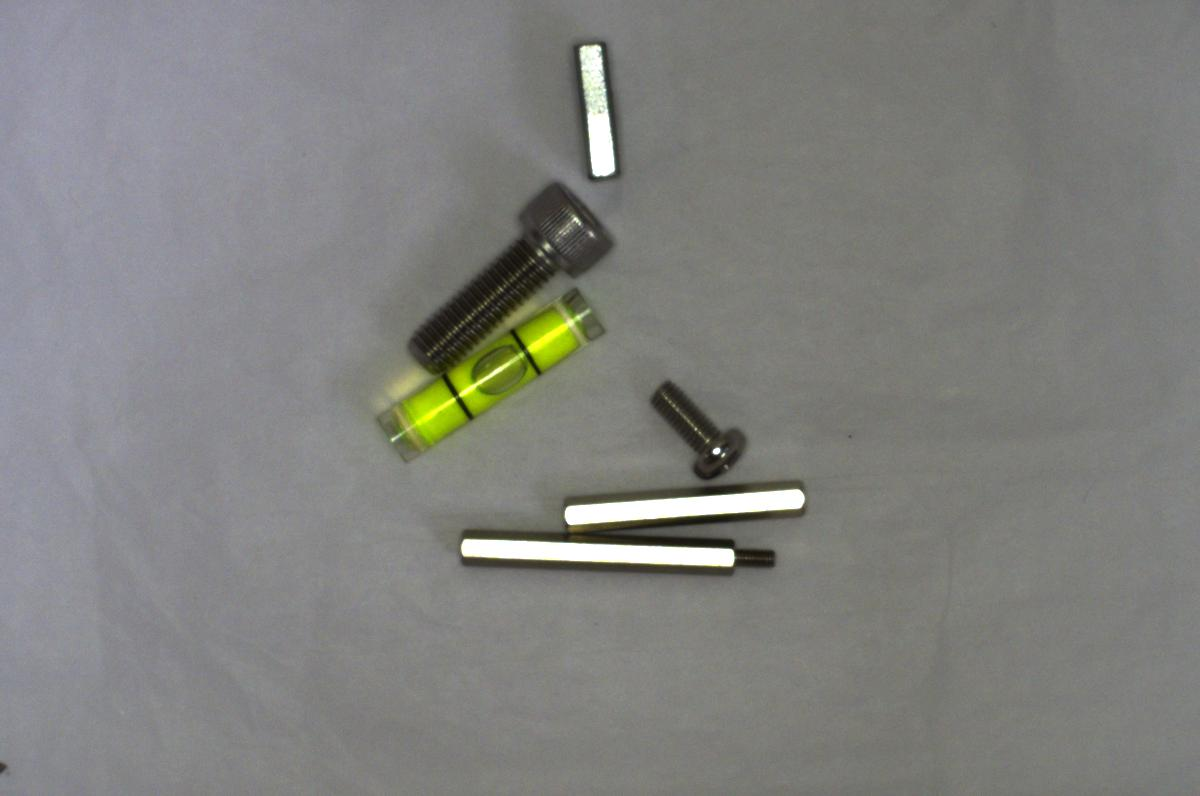Double hexagonal column: (554, 486, 818, 535)
Hexagon screw: (400, 179, 608, 380)
Hexagonal steel column: (450, 515, 787, 587)
Horizontal bubble: (358, 276, 607, 454)
Rectangular nut: (565, 28, 631, 194)
Round head screw: (645, 379, 747, 485)
